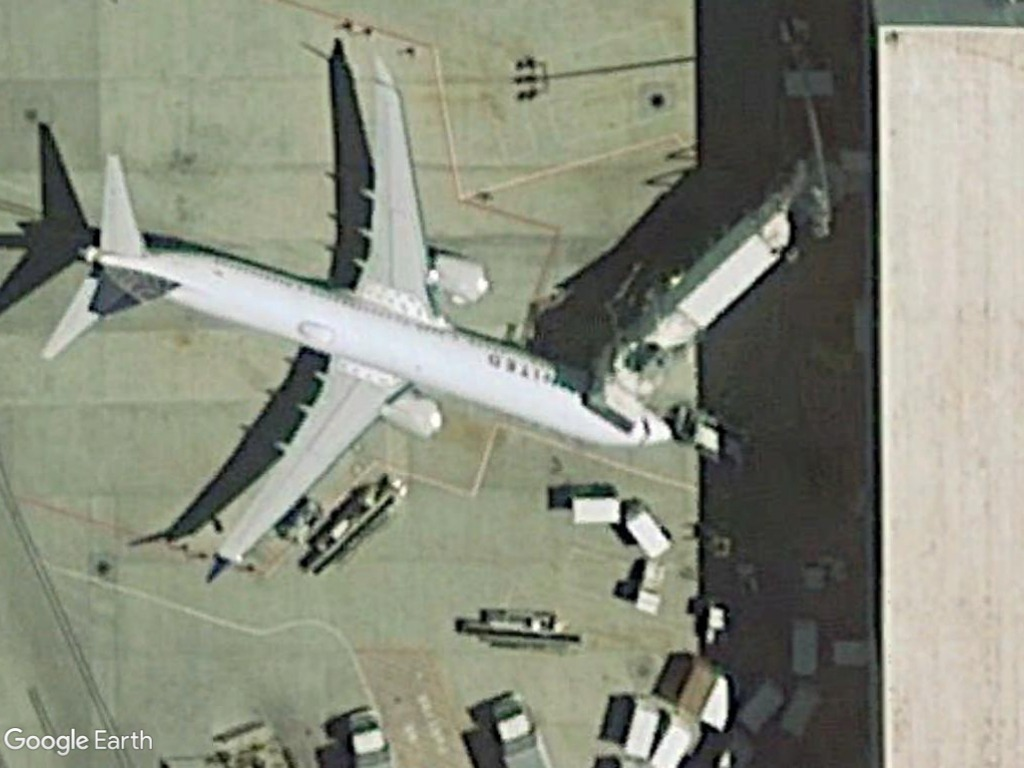airliner: (36, 47, 683, 585)
